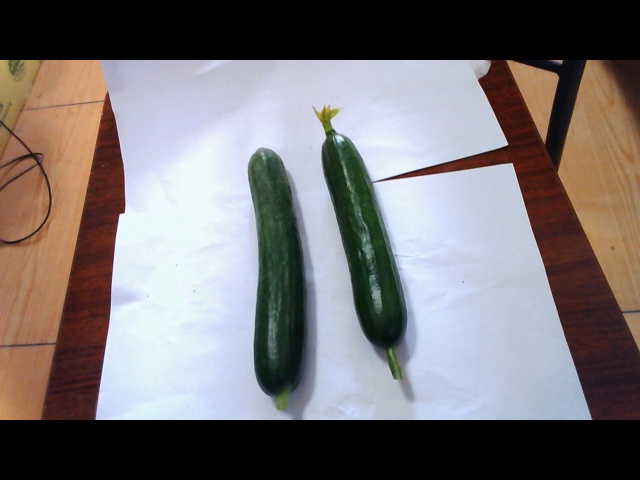cucumber: (313, 118, 419, 392), (232, 144, 311, 409)
